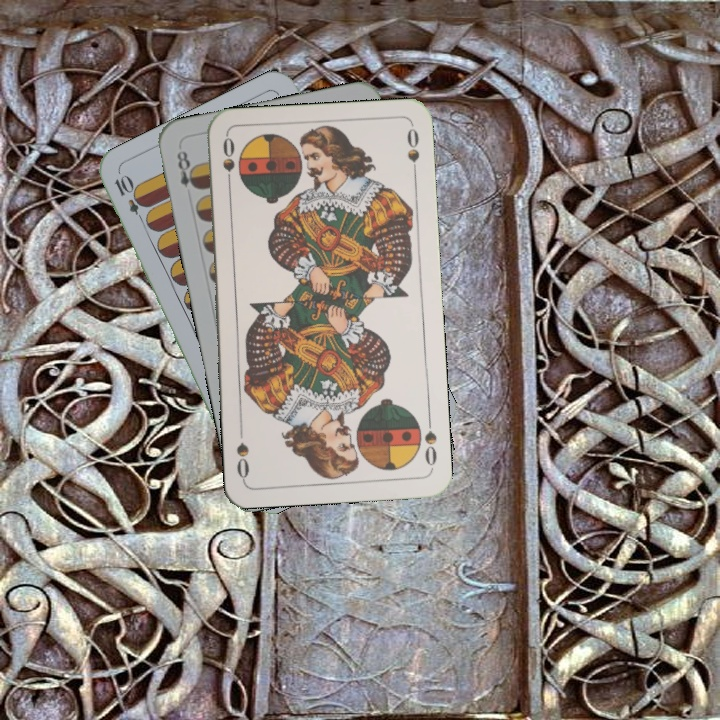E10: (110, 171, 149, 227)
E8: (173, 143, 201, 192)
SO: (218, 133, 238, 192), (421, 412, 440, 472)
